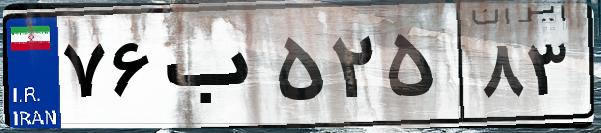2: (330, 28, 385, 110)
3: (525, 38, 570, 115)
5: (270, 28, 330, 110), (385, 28, 445, 110)
6: (110, 28, 158, 98)
7: (57, 26, 110, 100)
8: (475, 38, 525, 113)
ب: (158, 20, 270, 120)
